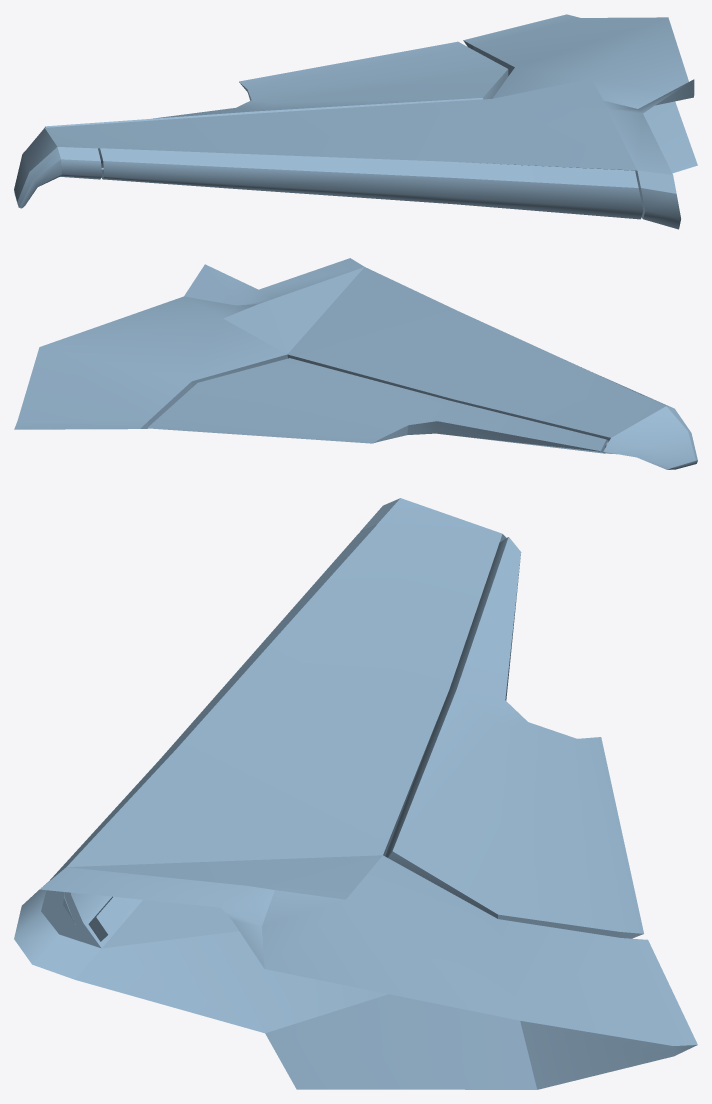
File: big wing Up R.FBX
3 views of the same model, one above another, from view 1: azimuth 30°, elevation 25°; view 2: azimuth 150°, elevation 25°; view 3: azimuth 270°, elevation 25° (orthographic). The views are drawn at different scales.
Visible parts, largest first — view 1: Box42; view 2: Box42; view 3: Box42.
Part boxes in pixels (<box>): Box42: <box>14,14,697,229</box>; Box42: <box>14,258,697,469</box>; Box42: <box>14,498,697,1089</box>.
Size of the model in its own units: 0.1813 by 0.1134 by 0.0345.
